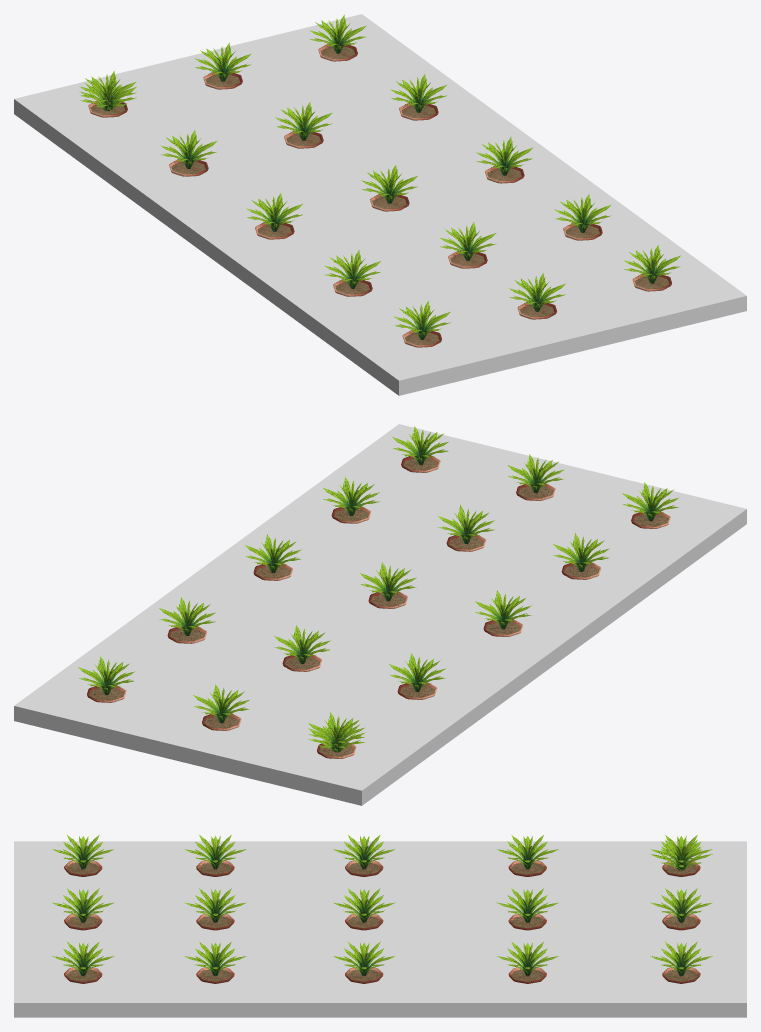
Rendered from mesa_hidroponia.glb.
3 renders of one model, top to bottom at view 1: azimuth 30°, elevation 25°; view 2: azimuth 150°, elevation 25°; view 3: azimuth 270°, elevation 25°, orthographic. The views are drawn at different scales.
Parts seen in each view (by area): view 1: Object_6, Object_4, Object_3, Object_17, Object_18, Object_14, Object_8, Object_12, Object_10, Object_7, Object_16, Object_13 (+3 smaller); view 2: Object_6, Object_4, Object_2, Object_17, Object_18, Object_14, Object_12, Object_10, Object_8, Object_7, Object_16, Object_15 (+3 smaller); view 3: Object_6, Object_5, Object_17, Object_18, Object_10, Object_12, Object_14, Object_8, Object_7, Object_16, Object_9, Object_11 (+2 smaller).
Boxes of the visible parts, bbox=[...] form: Object_6: bbox=[14, 14, 746, 380]; Object_4: bbox=[14, 99, 398, 395]; Object_3: bbox=[399, 296, 746, 395]; Object_17: bbox=[91, 46, 669, 345]; Object_18: bbox=[88, 43, 671, 347]; Object_14: bbox=[393, 245, 680, 339]; Object_8: bbox=[324, 194, 611, 288]; Object_12: bbox=[194, 42, 533, 175]; Object_10: bbox=[160, 74, 446, 168]; Object_7: bbox=[79, 71, 302, 231]; Object_16: bbox=[79, 14, 366, 110]; Object_13: bbox=[361, 165, 417, 203]; Object_6: bbox=[14, 424, 746, 790]; Object_4: bbox=[362, 509, 746, 805]; Object_2: bbox=[14, 706, 361, 805]; Object_17: bbox=[89, 458, 667, 756]; Object_18: bbox=[87, 455, 670, 758]; Object_14: bbox=[392, 426, 678, 521]; Object_12: bbox=[193, 534, 301, 723]; Object_10: bbox=[159, 597, 445, 692]; Object_8: bbox=[323, 477, 609, 571]; Object_7: bbox=[308, 590, 531, 750]; Object_16: bbox=[78, 656, 365, 752]; Object_15: bbox=[507, 454, 564, 493]; Object_6: bbox=[14, 841, 746, 1002]; Object_5: bbox=[14, 1003, 746, 1017]; Object_17: bbox=[66, 862, 697, 981]; Object_18: bbox=[64, 860, 700, 983]; Object_10: bbox=[496, 835, 558, 976]; Object_12: bbox=[333, 888, 712, 976]; Object_14: bbox=[52, 835, 114, 976]; Object_8: bbox=[184, 835, 246, 976]; Object_7: bbox=[333, 835, 712, 869]; Object_16: bbox=[650, 839, 712, 976]; Object_9: bbox=[184, 888, 246, 922]; Object_11: bbox=[496, 888, 558, 922].
Size of the model in its own units: 91.44 by 13.97 by 175.
Materials: 8 (3 with a texture image).
